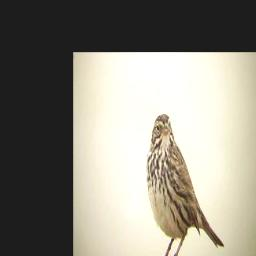Sparrow: (146, 112, 225, 256)
